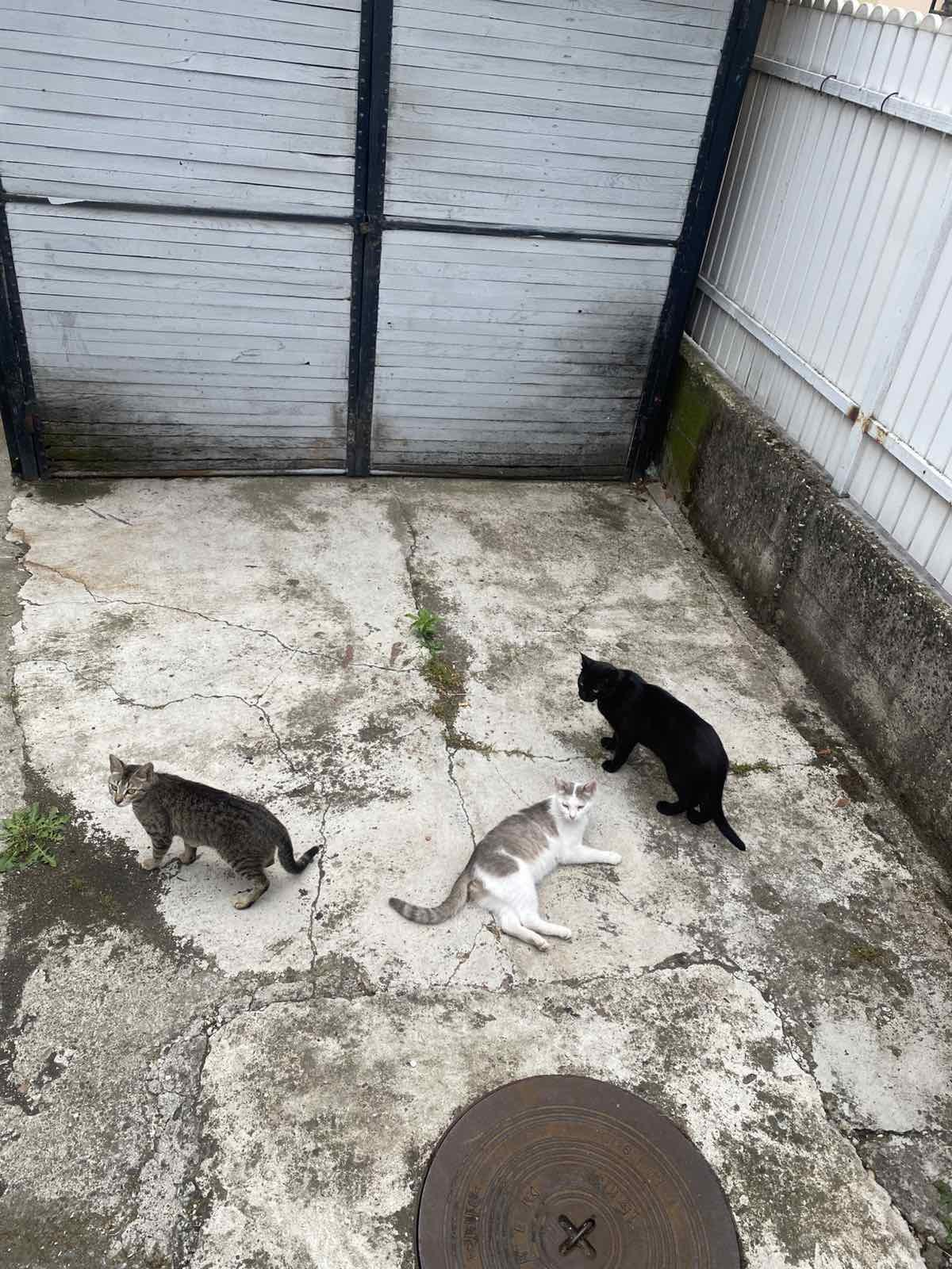macka: (390, 773, 622, 952), (577, 650, 746, 852), (108, 752, 324, 910)
